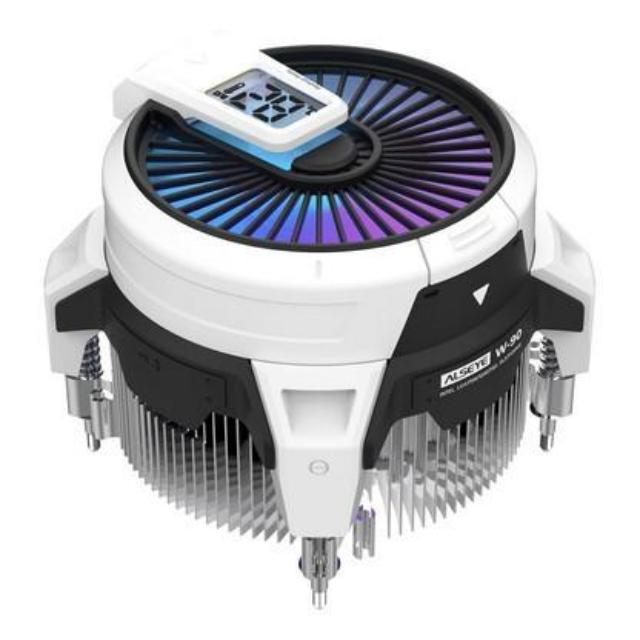CPU_Fan: (40, 30, 592, 621)
